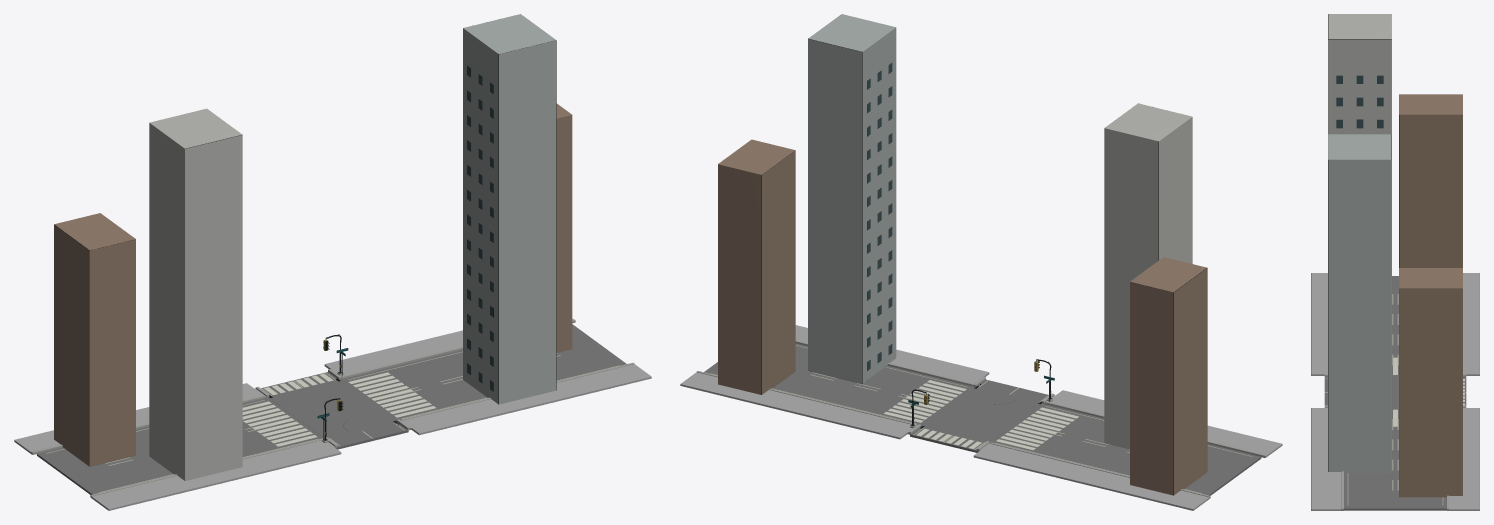
Rendered from city_hd_17.glb.
3 renders of one model, left to right at view 1: azimuth 30°, elevation 25°; view 2: azimuth 150°, elevation 25°; view 3: azimuth 270°, elevation 25°, orthographic. The views are drawn at different scales.
Visible parts, largest first — view 1: CITY_darkmetal, CITY_PBR_asphalt, CITY_PBR_pavement, CITY_zebra_paint, CITY_curb, CITY_paint; view 2: CITY_darkmetal, CITY_PBR_asphalt, CITY_PBR_pavement, CITY_zebra_paint, CITY_curb, CITY_paint; view 3: CITY_darkmetal, CITY_PBR_pavement, CITY_PBR_asphalt, CITY_paint, CITY_zebra_paint, CITY_curb.
Boxes of the visible parts, x1,y1,x2,y2 form: CITY_darkmetal: (54, 14, 572, 480); CITY_PBR_asphalt: (37, 324, 626, 494); CITY_PBR_pavement: (14, 318, 651, 510); CITY_zebra_paint: (242, 372, 435, 446); CITY_curb: (31, 319, 634, 497); CITY_paint: (46, 351, 619, 492); CITY_darkmetal: (718, 14, 1207, 495); CITY_PBR_asphalt: (704, 343, 1261, 495); CITY_PBR_pavement: (680, 325, 1282, 510); CITY_zebra_paint: (884, 380, 1078, 450); CITY_curb: (696, 340, 1266, 498); CITY_paint: (710, 345, 1252, 493); CITY_darkmetal: (1328, 14, 1462, 497); CITY_PBR_pavement: (1311, 273, 1479, 510); CITY_PBR_asphalt: (1324, 276, 1466, 510); CITY_paint: (1324, 294, 1466, 505); CITY_zebra_paint: (1393, 357, 1464, 426); CITY_curb: (1324, 374, 1466, 510).
Size of the model in its own units: 63 by 39.26 by 19.01.
6 materials, 1 textured.
